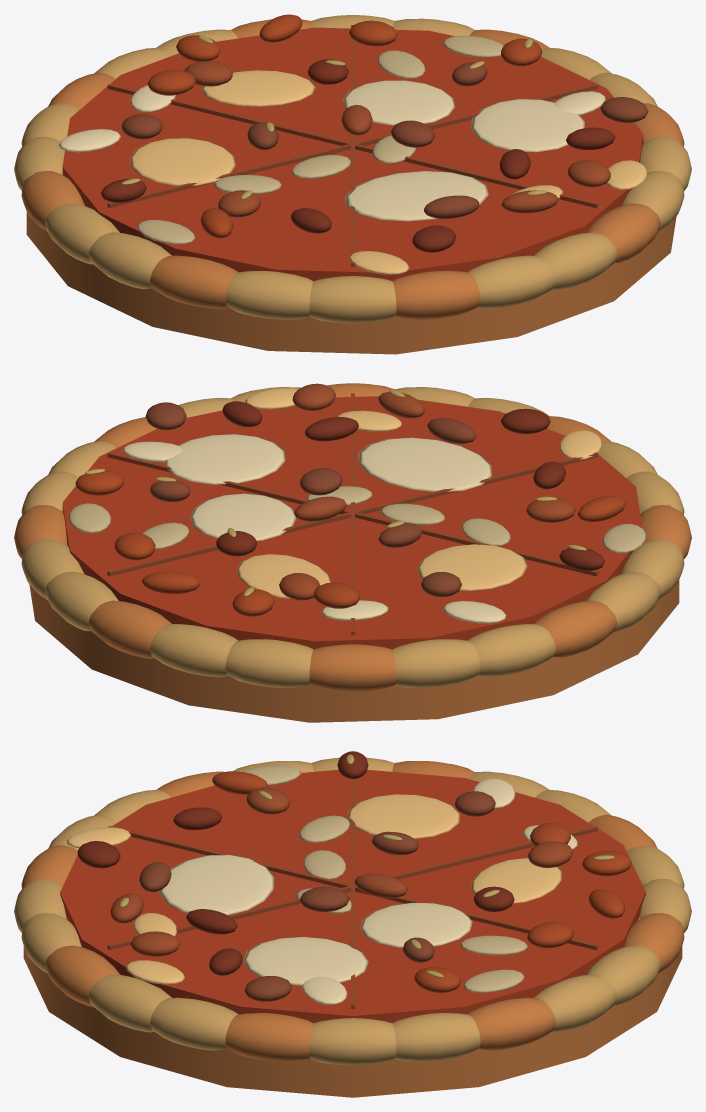
The model's file is CMU3DRMCFoodPizzaMeatFullExtraCloud.glb.
3 views of the same model, one above another, from view 1: azimuth 30°, elevation 25°; view 2: azimuth 150°, elevation 25°; view 3: azimuth 270°, elevation 25° (orthographic).
Parts seen in each view (by area): view 1: thin tomato sauce bed, baked circular dough, source-traced melted cheese cluster 08, source-traced melted cheese cluster 14, source-traced melted cheese cluster 03, rounded separate crust section 17, source-traced melted cheese cluster 11, rounded separate crust section 16, rounded separate crust section 18, rounded separate crust section 15, rounded separate crust section 19, source-traced melted cheese cluster 09 (+55 smaller); view 2: thin tomato sauce bed, baked circular dough, source-traced melted cheese cluster 08, source-traced melted cheese cluster 14, rounded separate crust section 09, source-traced melted cheese cluster 11, rounded separate crust section 10, rounded separate crust section 08, source-traced melted cheese cluster 03, rounded separate crust section 11, rounded separate crust section 07, rounded separate crust section 06 (+56 smaller); view 3: thin tomato sauce bed, baked circular dough, source-traced melted cheese cluster 08, source-traced melted cheese cluster 14, source-traced melted cheese cluster 03, source-traced melted cheese cluster 11, rounded separate crust section 01, rounded separate crust section 02, rounded separate crust section 24, rounded separate crust section 03, rounded separate crust section 23, rounded separate crust section 04 (+54 smaller).
Boxes of the visible parts, x1=… form: thin tomato sauce bed: x1=62, y1=27, x2=643, y2=281; baked circular dough: x1=26, y1=205, x2=676, y2=354; source-traced melted cheese cluster 08: x1=345, y1=171, x2=488, y2=221; source-traced melted cheese cluster 14: x1=471, y1=99, x2=585, y2=152; source-traced melted cheese cluster 03: x1=129, y1=138, x2=235, y2=185; rounded separate crust section 17: x1=309, y1=276, x2=396, y2=323; source-traced melted cheese cluster 11: x1=343, y1=80, x2=454, y2=125; rounded separate crust section 16: x1=225, y1=271, x2=313, y2=319; rounded separate crust section 18: x1=392, y1=271, x2=480, y2=319; rounded separate crust section 15: x1=150, y1=255, x2=238, y2=308; rounded separate crust section 19: x1=467, y1=255, x2=555, y2=308; source-traced melted cheese cluster 09: x1=201, y1=70, x2=315, y2=106; thin tomato sauce bed: x1=62, y1=396, x2=642, y2=649; baked circular dough: x1=29, y1=513, x2=679, y2=722; source-traced melted cheese cluster 08: x1=358, y1=437, x2=491, y2=491; source-traced melted cheese cluster 14: x1=164, y1=434, x2=285, y2=484; rounded separate crust section 09: x1=309, y1=644, x2=396, y2=691; source-traced melted cheese cluster 11: x1=190, y1=493, x2=296, y2=540; rounded separate crust section 10: x1=392, y1=639, x2=480, y2=687; rounded separate crust section 08: x1=225, y1=639, x2=313, y2=687; source-traced melted cheese cluster 03: x1=417, y1=544, x2=527, y2=590; rounded separate crust section 11: x1=468, y1=624, x2=555, y2=677; rounded separate crust section 07: x1=150, y1=624, x2=237, y2=677; rounded separate crust section 06: x1=88, y1=600, x2=171, y2=658; thin tomato sauce bed: x1=60, y1=769, x2=645, y2=1023; baked circular dough: x1=23, y1=917, x2=682, y2=1097; source-traced melted cheese cluster 08: x1=159, y1=854, x2=274, y2=915; source-traced melted cheese cluster 14: x1=243, y1=936, x2=368, y2=985; source-traced melted cheese cluster 03: x1=347, y1=794, x2=460, y2=838; source-traced melted cheese cluster 11: x1=360, y1=902, x2=472, y2=947; rounded separate crust section 01: x1=309, y1=1018, x2=396, y2=1065; rounded separate crust section 02: x1=392, y1=1013, x2=480, y2=1061; rounded separate crust section 24: x1=225, y1=1013, x2=313, y2=1061; rounded separate crust section 03: x1=467, y1=997, x2=555, y2=1050; rounded separate crust section 23: x1=150, y1=997, x2=238, y2=1050; rounded separate crust section 04: x1=534, y1=974, x2=617, y2=1032.
Size of the model in its own units: 1 by 0.15 by 1.
